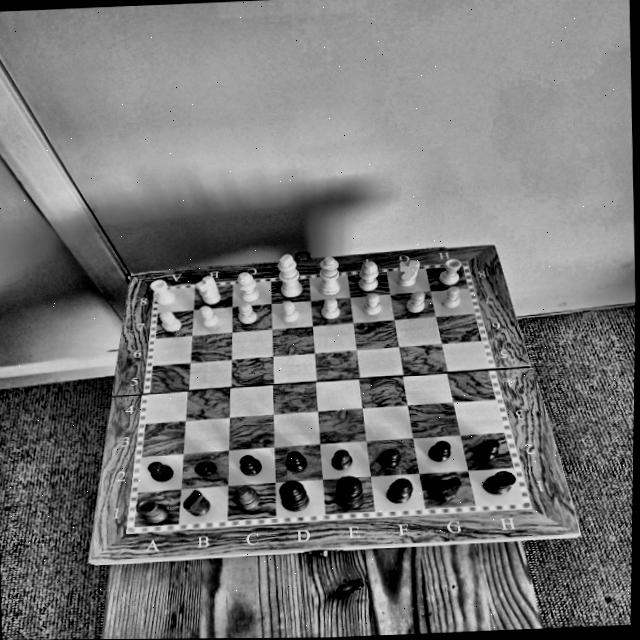black-bishop: (231, 483, 264, 512), (382, 477, 417, 504)
black-king: (334, 474, 366, 509)
black-knight: (428, 474, 467, 502), (179, 487, 212, 519)
black-pawn: (326, 444, 360, 475), (231, 452, 271, 478), (427, 436, 455, 467), (471, 435, 503, 462), (142, 461, 178, 484), (280, 448, 313, 473), (377, 446, 402, 470), (191, 459, 220, 477)
black-queen: (275, 479, 313, 512)
black-rook: (134, 497, 173, 526), (481, 468, 517, 497)
white-bishop: (234, 270, 264, 302), (355, 260, 384, 291)
white-king: (275, 253, 304, 298)
white-knight: (194, 274, 223, 305), (395, 254, 422, 287)
white-pawn: (155, 309, 185, 334), (278, 298, 305, 325), (233, 302, 263, 326), (193, 305, 224, 327), (318, 297, 343, 321), (406, 290, 429, 316), (360, 293, 385, 316), (441, 284, 462, 311)
white-queen: (315, 256, 346, 295)
white-rook: (149, 277, 180, 307), (436, 256, 465, 285)
